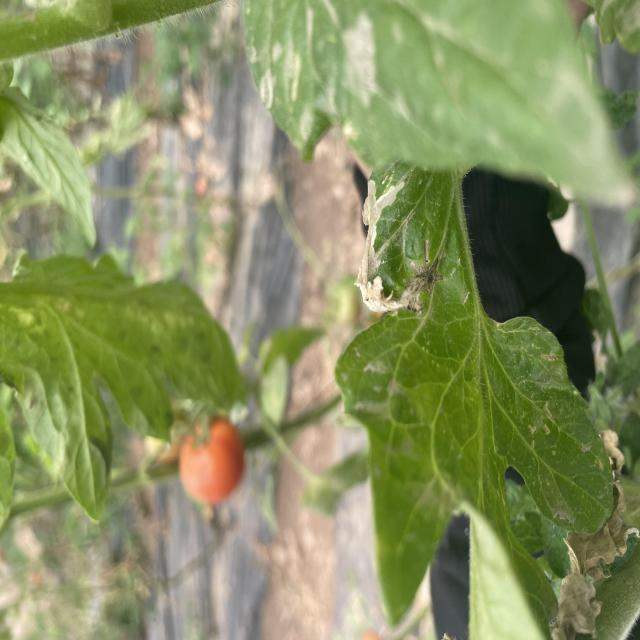Tuta absoluta: (352, 180, 409, 313)
